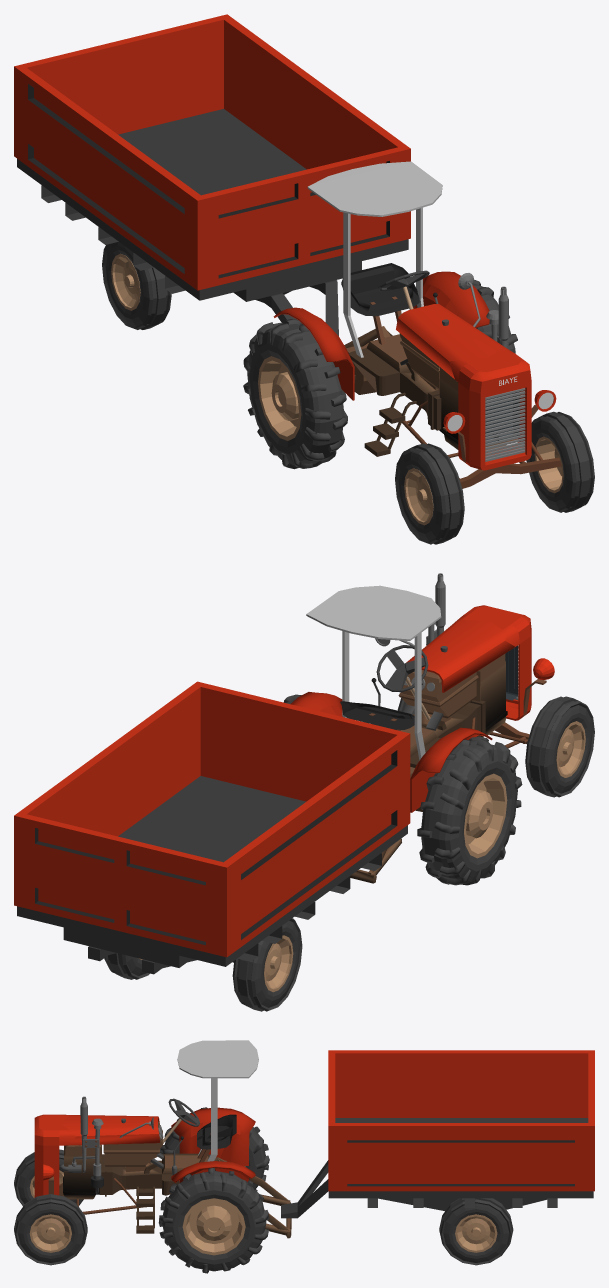
The model's file is o3_trattore_rimorchio.glb.
3 views of the same model, one above another, from view 1: azimuth 30°, elevation 25°; view 2: azimuth 150°, elevation 25°; view 3: azimuth 270°, elevation 25° (orthographic). The views are drawn at different scales.
Visible parts, largest first — view 1: sb_modello; view 2: sb_modello; view 3: sb_modello.
Part boxes in pixels (x1,y1,x2,y2): sb_modello: (14, 14, 594, 544); sb_modello: (14, 573, 594, 1011); sb_modello: (14, 1040, 594, 1273).
Bounding box in the file's own units: 2.05 × 2.3 × 6.67.
3 materials, 2 textured.
